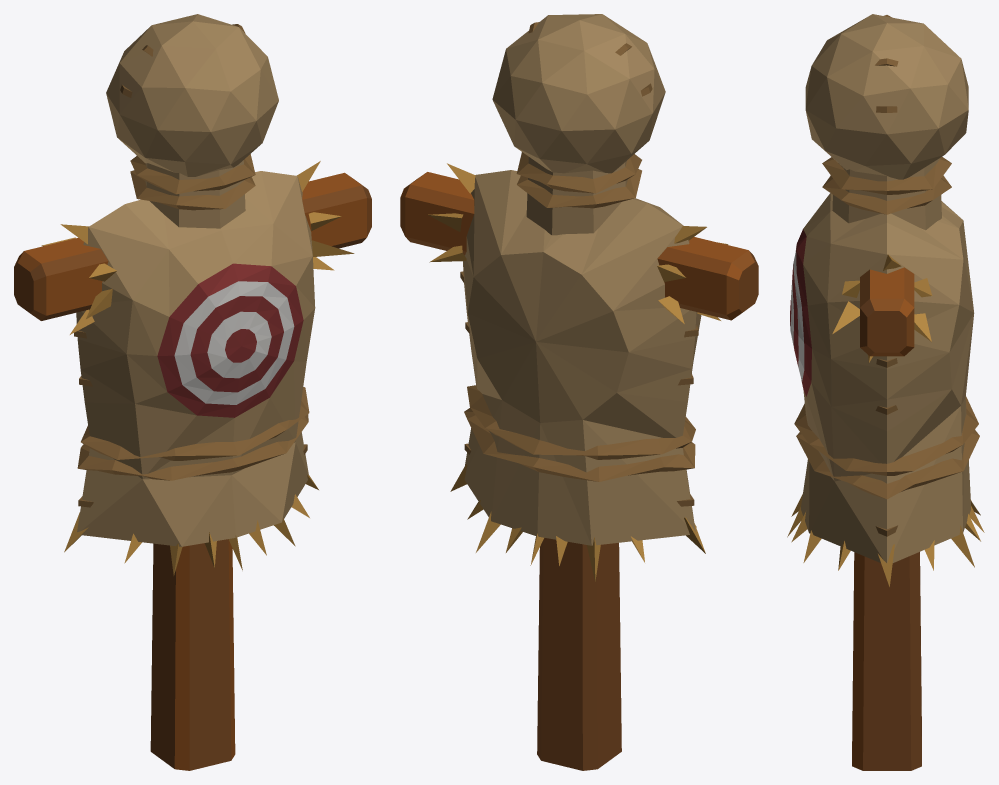
The model's file is straw-training-dummy-64eeb4.glb.
3 views of the same model, side by side, from view 1: azimuth 30°, elevation 25°; view 2: azimuth 150°, elevation 25°; view 3: azimuth 270°, elevation 25° (orthographic).
Parts seen in each view (by area): view 1: dummy; view 2: dummy; view 3: dummy.
Part boxes in pixels (x1,y1,x2,y2): dummy: [14, 14, 371, 770]; dummy: [400, 14, 758, 770]; dummy: [787, 14, 984, 770].
Size of the model in its own units: 0.86 by 1.78 by 0.435.
